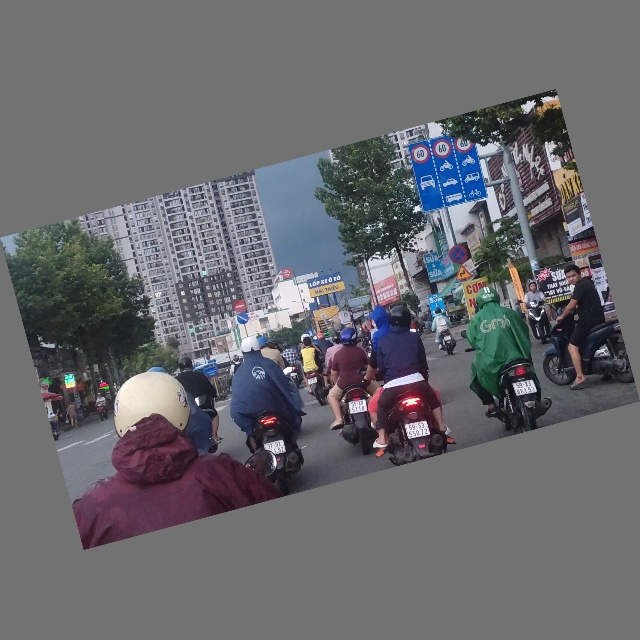P.102: (232, 300, 247, 314)
P.127*60: (431, 137, 454, 161), (453, 133, 476, 155), (409, 143, 431, 165)
P.130: (447, 243, 471, 266)
R.302a: (235, 311, 251, 327)
R.415a: (411, 150, 488, 214)
W.202b: (452, 262, 474, 283)
